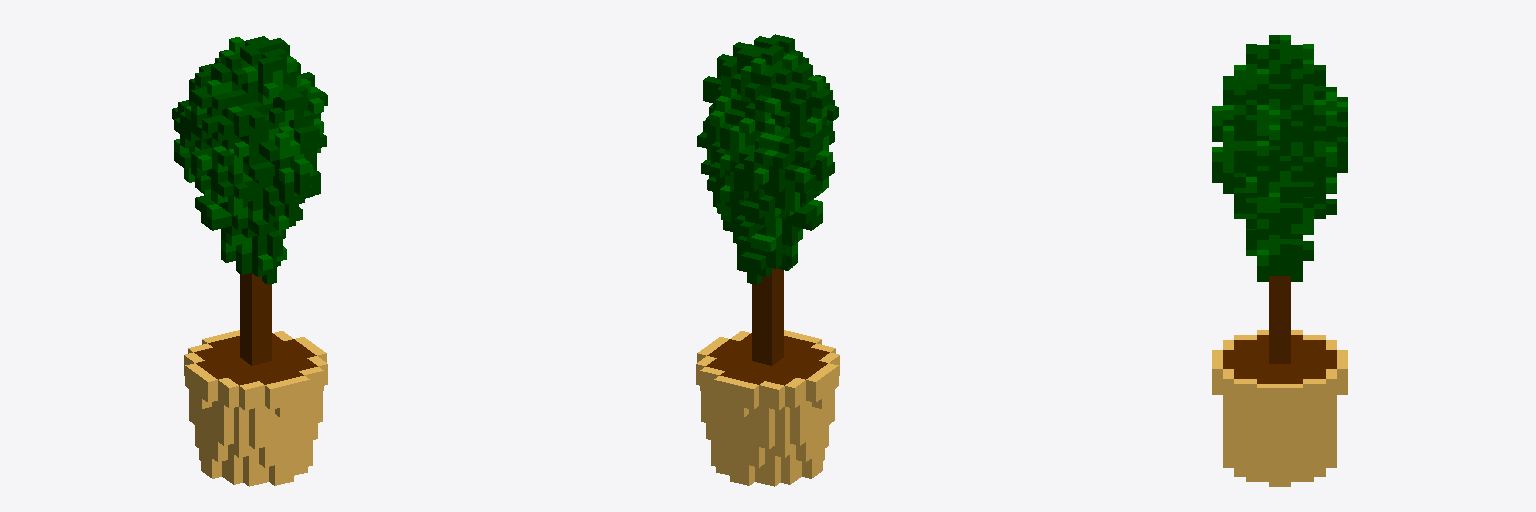
3 views of the same model, side by side, from view 1: azimuth 30°, elevation 25°; view 2: azimuth 150°, elevation 25°; view 3: azimuth 270°, elevation 25° (orthographic).
Visible parts, largest first — view 1: tree; view 2: tree; view 3: tree.
Part boxes in pixels (left/top/right/bottom): tree: left=172, top=36, right=327, bottom=486; tree: left=696, top=34, right=839, bottom=486; tree: left=1212, top=35, right=1347, bottom=486.
Size of the model in its own units: 1.2 by 4 by 1.2.
1 materials, 1 textured.